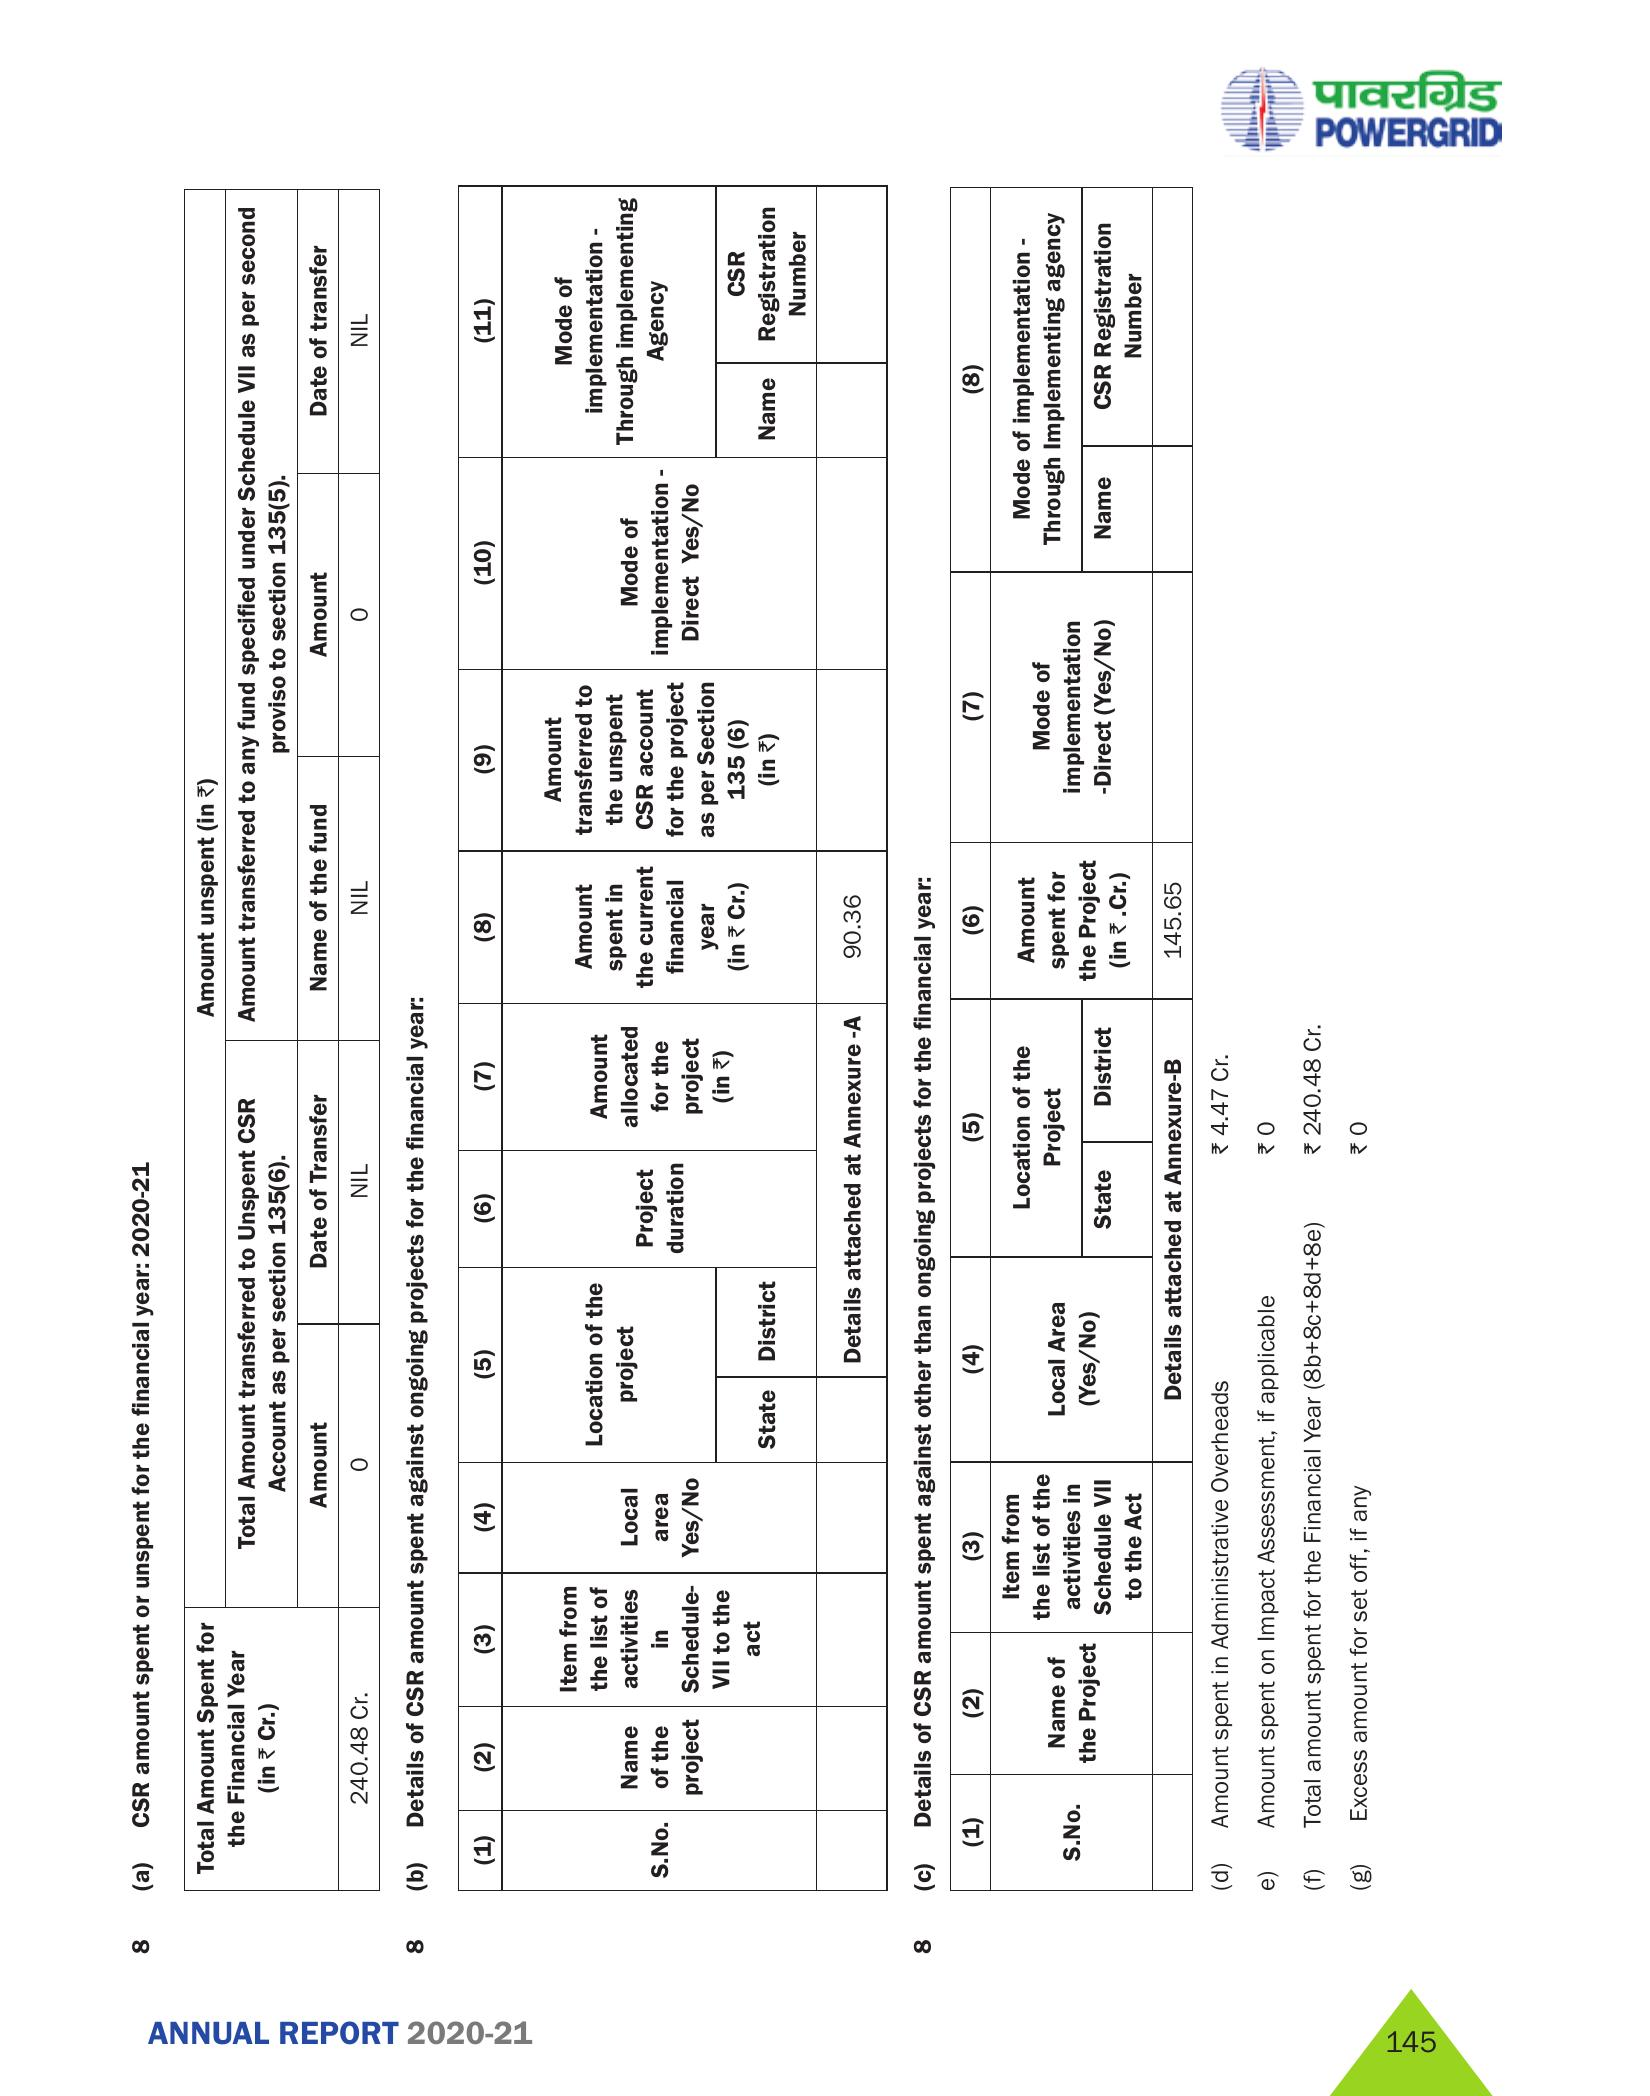Footer: (0, 1979, 1650, 2096)
Header: (0, 0, 1650, 155)
Table: (441, 175, 883, 1921), (105, 172, 379, 1928), (939, 172, 1209, 1928)
